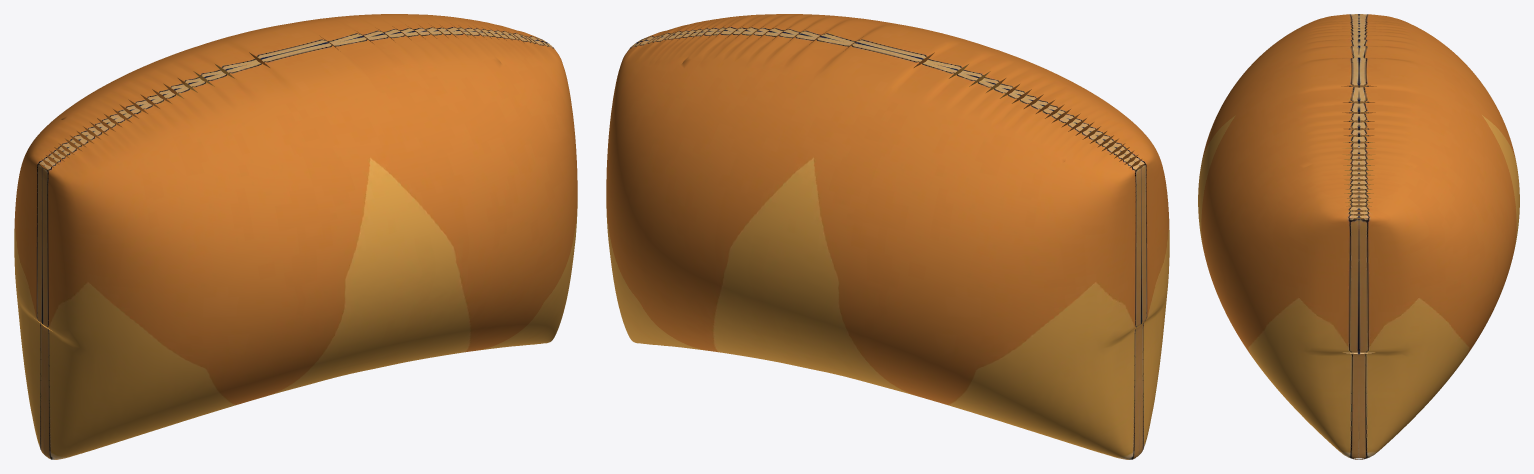
The model's file is orange_wall.glb.
3 renders of one model, left to right at view 1: azimuth 30°, elevation 25°; view 2: azimuth 150°, elevation 25°; view 3: azimuth 270°, elevation 25°, orthographic. The views are drawn at different scales.
Parts seen in each view (by area): view 1: orange_wall; view 2: orange_wall; view 3: orange_wall.
Part boxes in pixels (x1=…): orange_wall: x1=14, y1=14, x2=577, y2=459; orange_wall: x1=606, y1=14, x2=1169, y2=459; orange_wall: x1=1198, y1=14, x2=1519, y2=459.
Bounding box in the file's own units: 0.989 × 0.6519 × 0.6587.
1 material, 1 textured.
